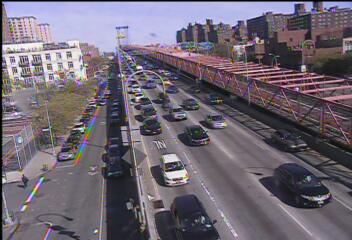neg: (133, 84, 178, 144), (197, 121, 219, 151), (114, 66, 131, 88), (342, 22, 351, 35), (57, 128, 66, 139), (78, 101, 86, 112), (156, 49, 164, 60), (102, 89, 108, 98), (104, 65, 107, 69)
pos: (18, 171, 33, 191)
